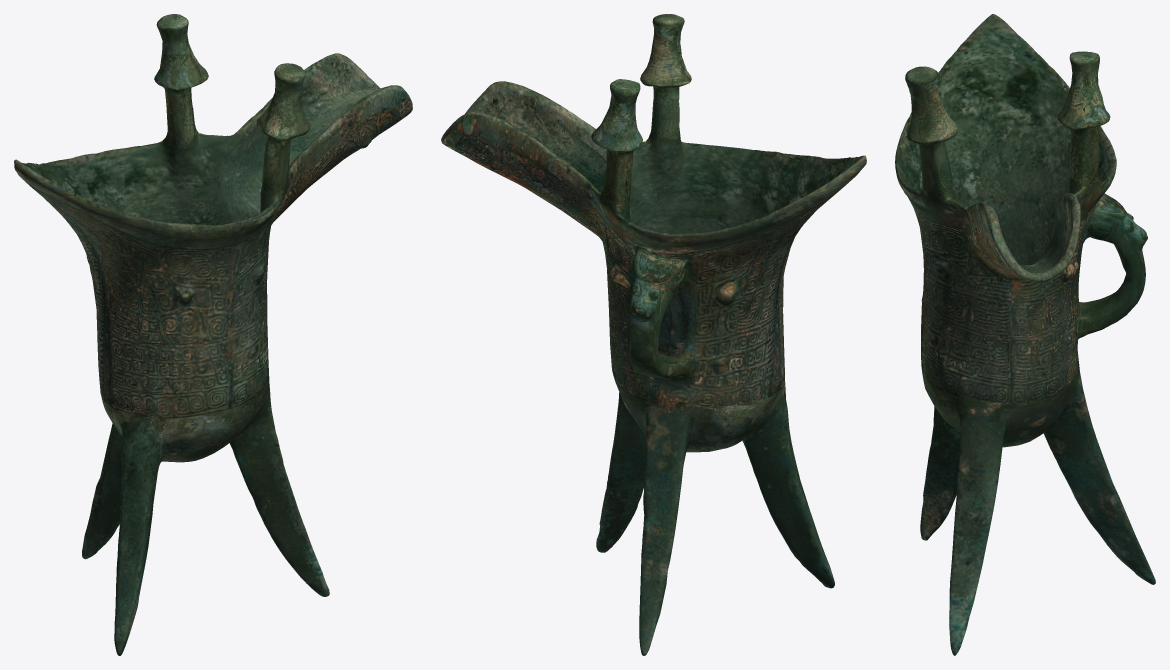
The model's file is 青铜爵 1.fbx.
The picture shows the model from 3 angles, left to right: view 1: azimuth 30°, elevation 25°; view 2: azimuth 150°, elevation 25°; view 3: azimuth 270°, elevation 25°; orthographic projection. The views are drawn at different scales.
Parts seen in each view (by area): view 1: 3DXY_geometry_001; view 2: 3DXY_geometry_001; view 3: 3DXY_geometry_001.
Boxes of the visible parts, box(x1,y1,x2,y2) form: 3DXY_geometry_001: box(14, 14, 412, 655); 3DXY_geometry_001: box(441, 14, 866, 655); 3DXY_geometry_001: box(895, 14, 1155, 655).
Size of the model in its own units: 17.01 by 21.93 by 9.28.
1 material, 1 textured.
